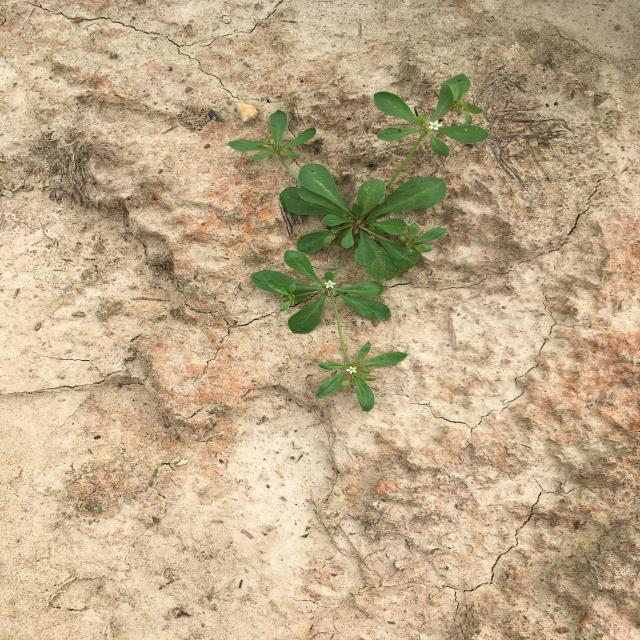Carpetweed: (227, 73, 490, 412)
